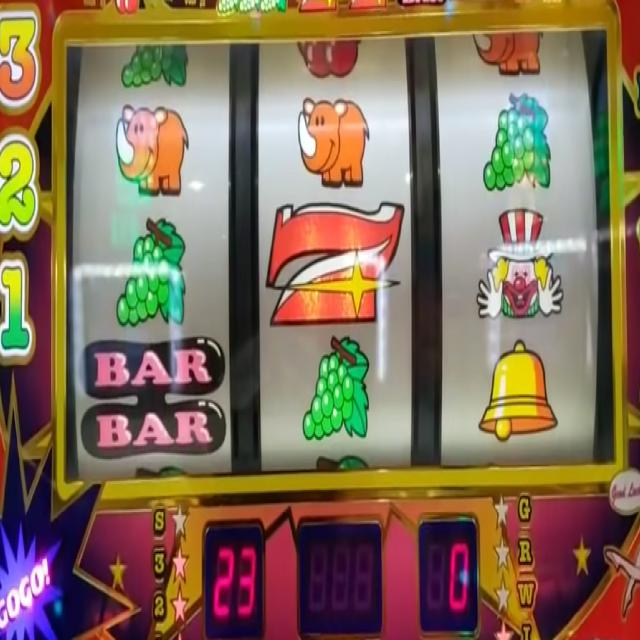bar: (77, 336, 228, 454)
bell: (476, 336, 558, 454)
cherry: (294, 39, 365, 79), (114, 0, 140, 17)
clown: (475, 204, 563, 323)
display: (66, 30, 616, 470)
elephant: (116, 102, 190, 196), (299, 95, 368, 187), (471, 34, 543, 78)
grape: (117, 215, 189, 322), (480, 90, 553, 194), (302, 336, 373, 438), (120, 42, 192, 89)
z: (267, 201, 404, 330)
